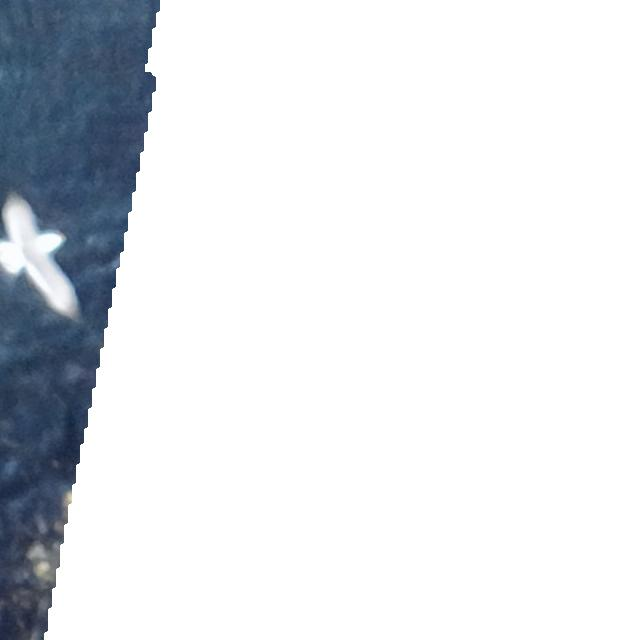F: (0, 198, 79, 322)
